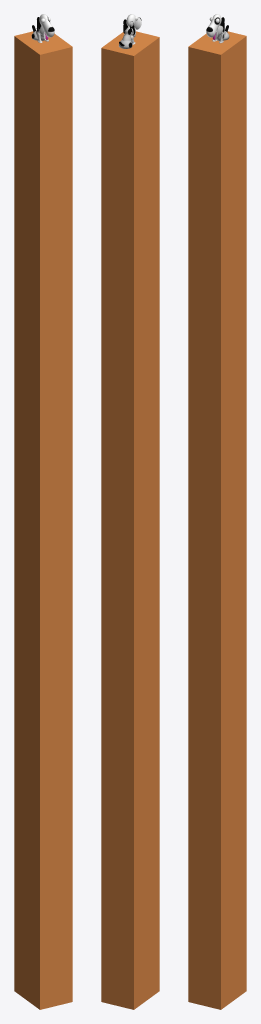
The model's file is THEFREAKINGDOG.fbx.
The picture shows the model from 3 angles, left to right: view 1: azimuth 30°, elevation 25°; view 2: azimuth 150°, elevation 25°; view 3: azimuth 330°, elevation 25°; orthographic projection.
Parts seen in each view (by area): view 1: Cube, head; view 2: Cube; view 3: Cube, head.
Part boxes in pixels (<box>): Cube: <box>14,31,72,1009</box>; head: <box>39,14,54,37</box>; Cube: <box>101,31,159,1009</box>; Cube: <box>188,31,246,1009</box>; head: <box>206,14,221,37</box>.
Bounding box in the file's own units: 554 × 15857 × 756.
Materials: 8 (4 with a texture image).
